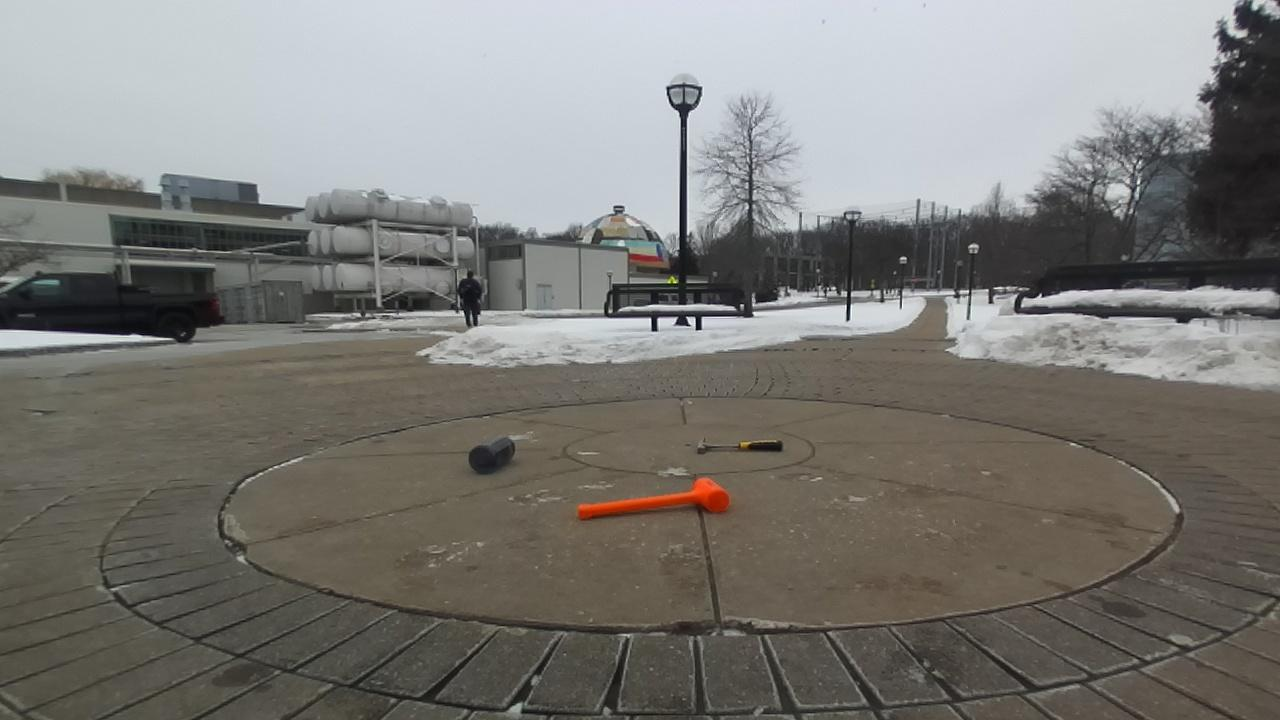bottle: (469, 437, 515, 473)
mallet: (578, 477, 729, 519)
pick: (697, 438, 782, 453)
